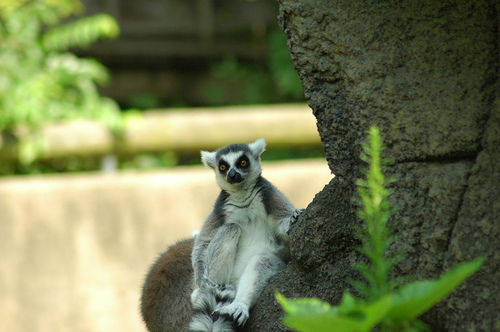cat: (185, 133, 305, 330)
